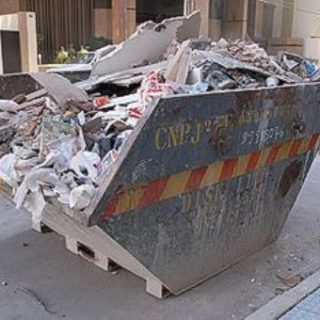rubble: (13, 32, 312, 122)
